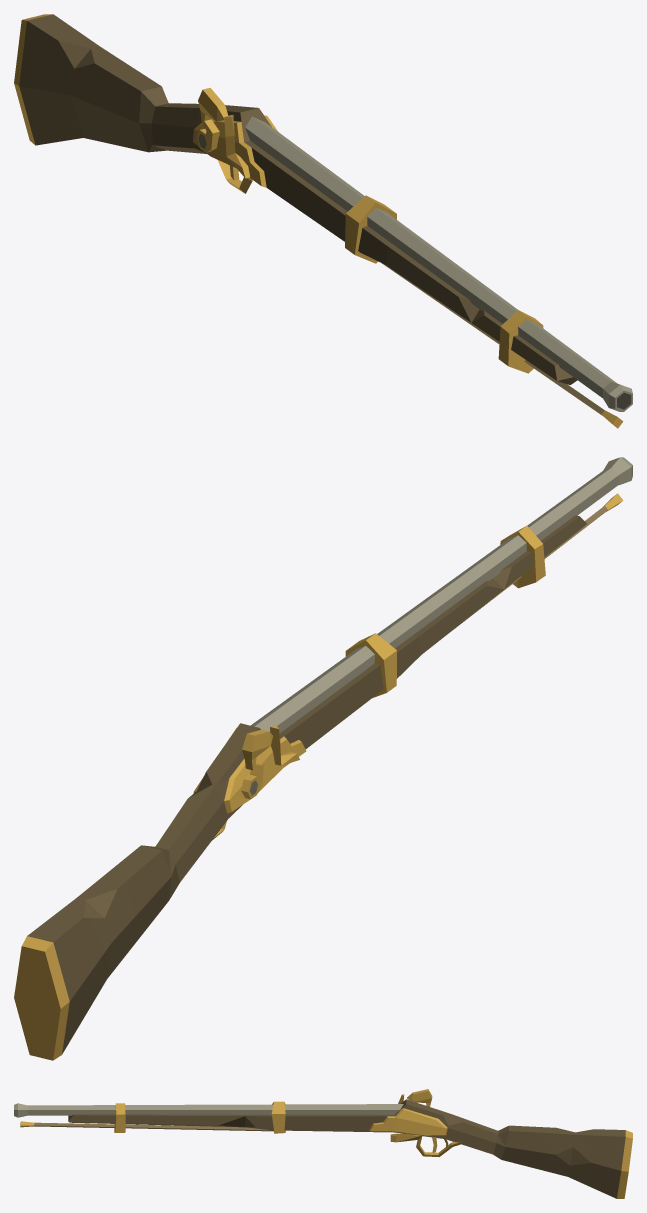
File: Rifle_2.fbx
3 views of the same model, one above another, from view 1: azimuth 30°, elevation 25°; view 2: azimuth 150°, elevation 25°; view 3: azimuth 270°, elevation 25° (orthographic). The views are drawn at different scales.
Visible parts, largest first — view 1: Rifle_2; view 2: Rifle_2; view 3: Rifle_2.
Part boxes in pixels (x1,y1,x2,y2): Rifle_2: [14, 14, 632, 428]; Rifle_2: [14, 457, 632, 1060]; Rifle_2: [14, 1089, 632, 1198].
Size of the model in its own units: 7.01 by 24.36 by 136.
